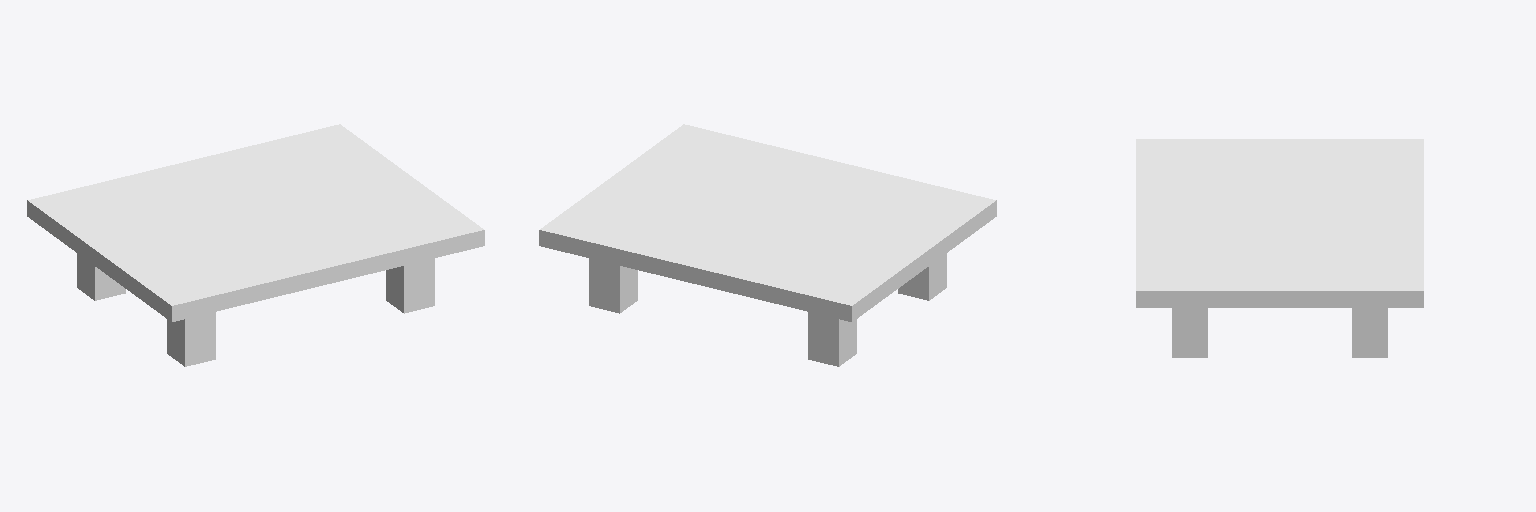
Rendered from Table.obj.
3 views of the same model, side by side, from view 1: azimuth 30°, elevation 25°; view 2: azimuth 150°, elevation 25°; view 3: azimuth 270°, elevation 25° (orthographic).
Bounding box in the file's own units: 20 × 5 × 16.